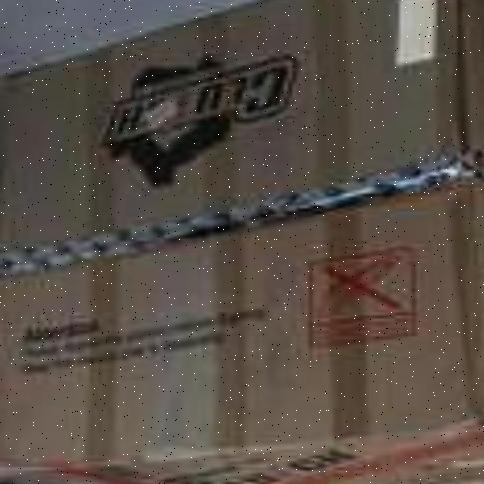Other: (0, 0, 484, 484), (0, 190, 484, 484), (0, 0, 484, 255)
